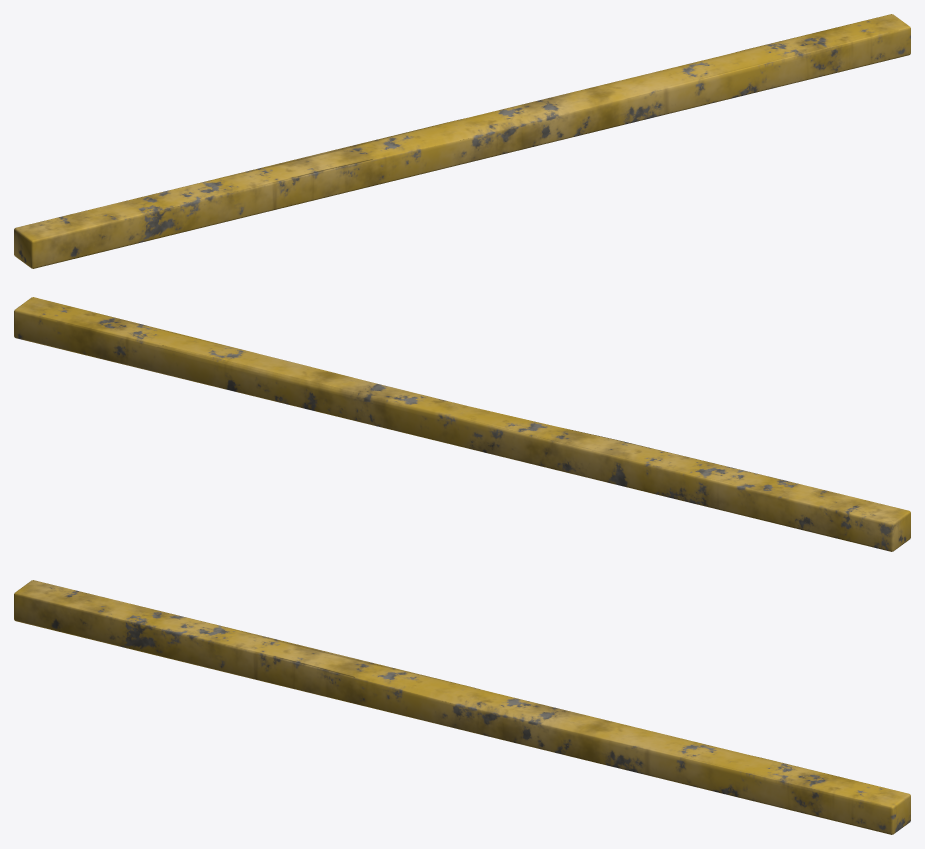
The model's file is curb.fbx.
3 renders of one model, top to bottom at view 1: azimuth 30°, elevation 25°; view 2: azimuth 150°, elevation 25°; view 3: azimuth 330°, elevation 25°, orthographic.
Visible parts, largest first — view 1: Body; view 2: Body; view 3: Body.
Boxes of the visible parts, bbox=[...] form: Body: bbox=[14, 14, 910, 268]; Body: bbox=[14, 297, 910, 551]; Body: bbox=[14, 580, 910, 834].
Size of the model in its own units: 32 by 1 by 1.2.
1 material, 1 textured.
